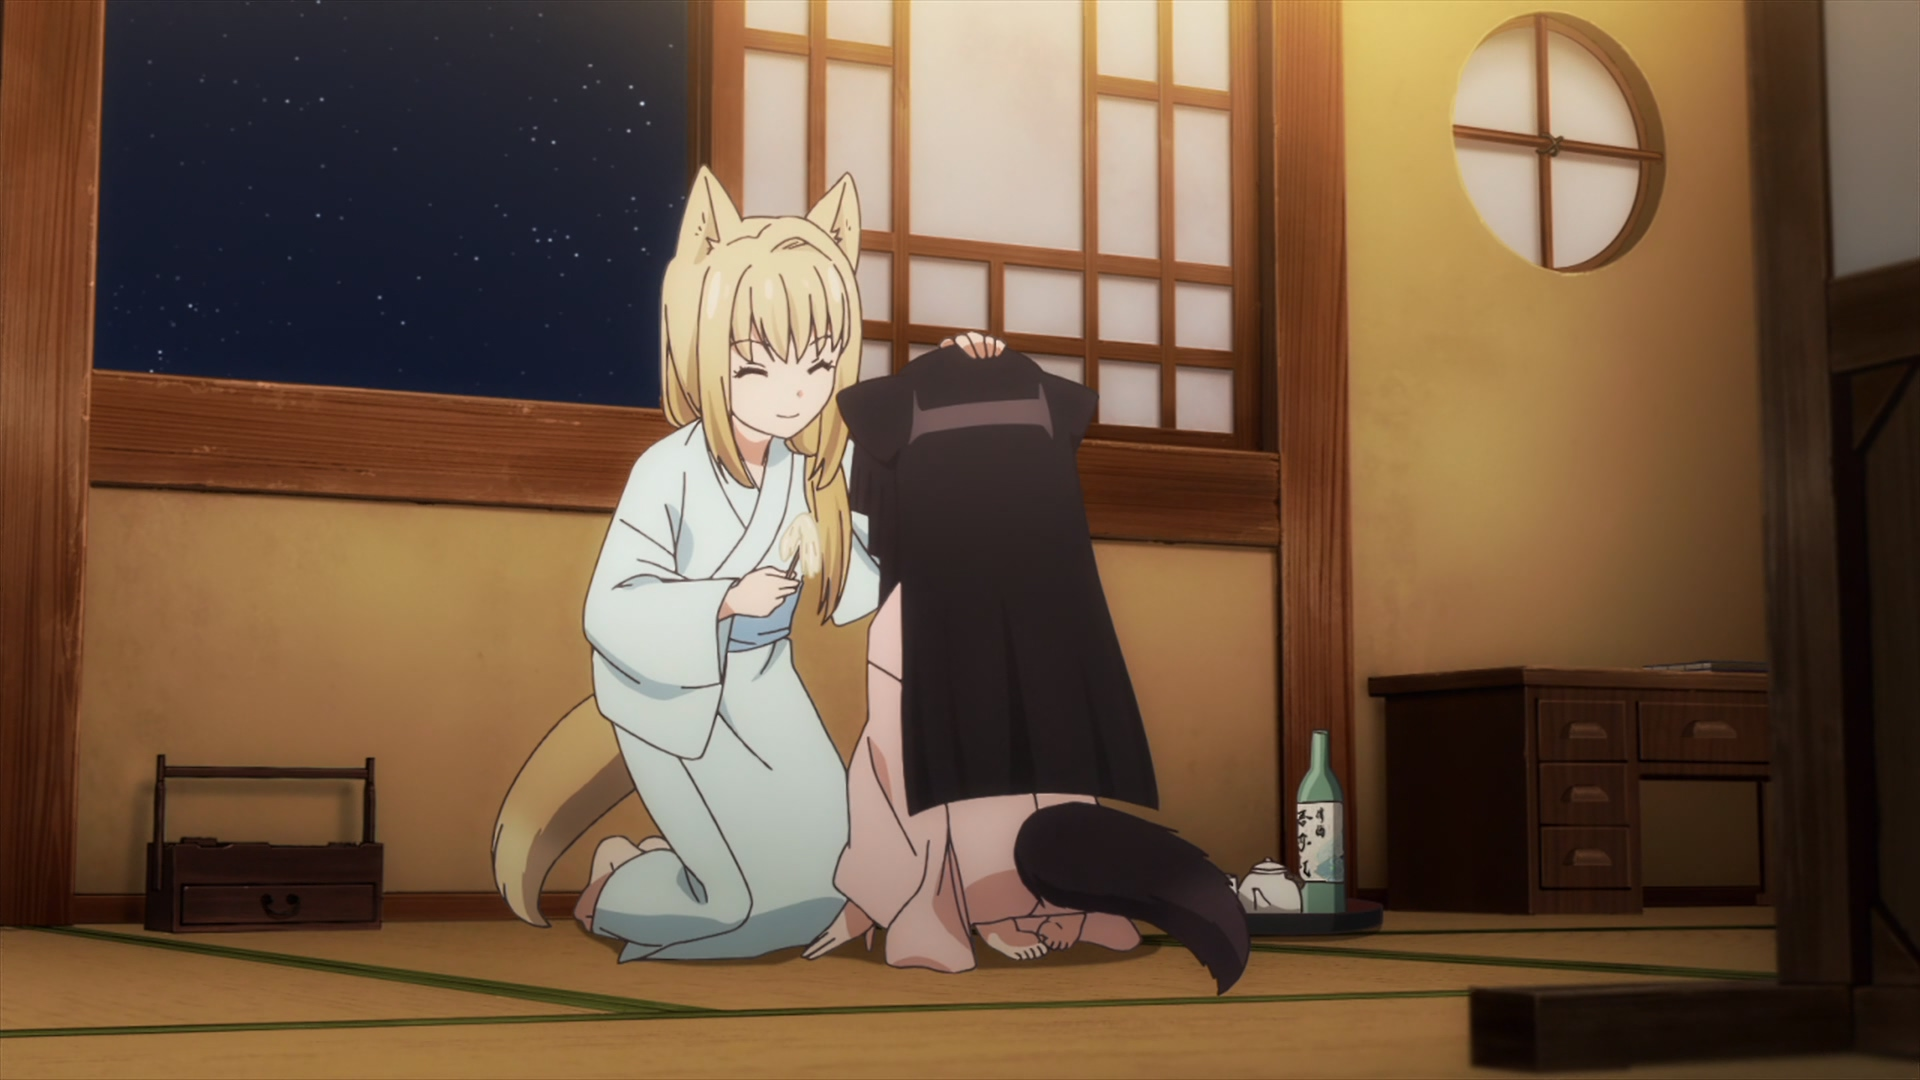桐: (495, 167, 1004, 963)
樱: (802, 342, 1251, 997)
